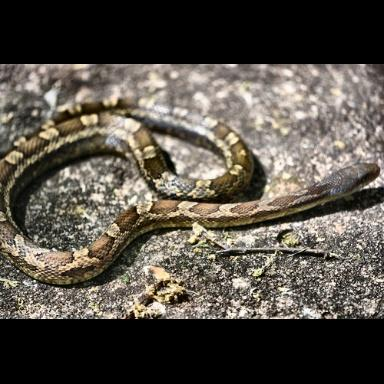snake: (0, 75, 384, 293)
